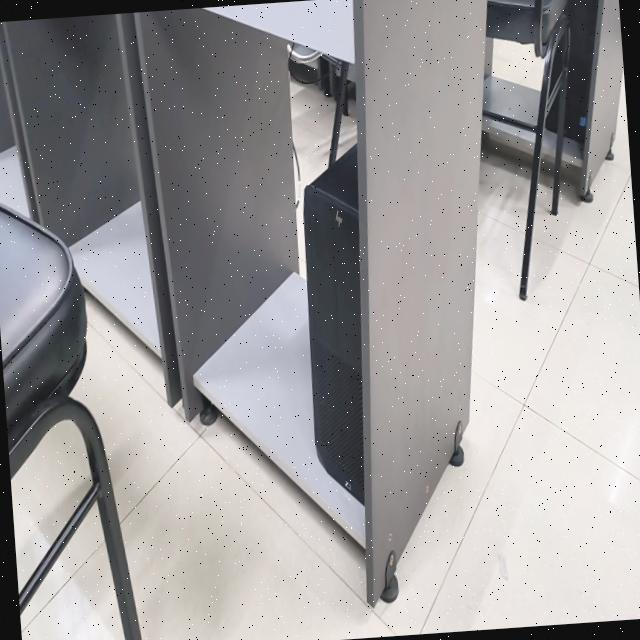Chair: (0, 204, 142, 640), (482, 0, 569, 299), (289, 43, 352, 165)
Cpu: (303, 144, 363, 504), (563, 0, 598, 147)
